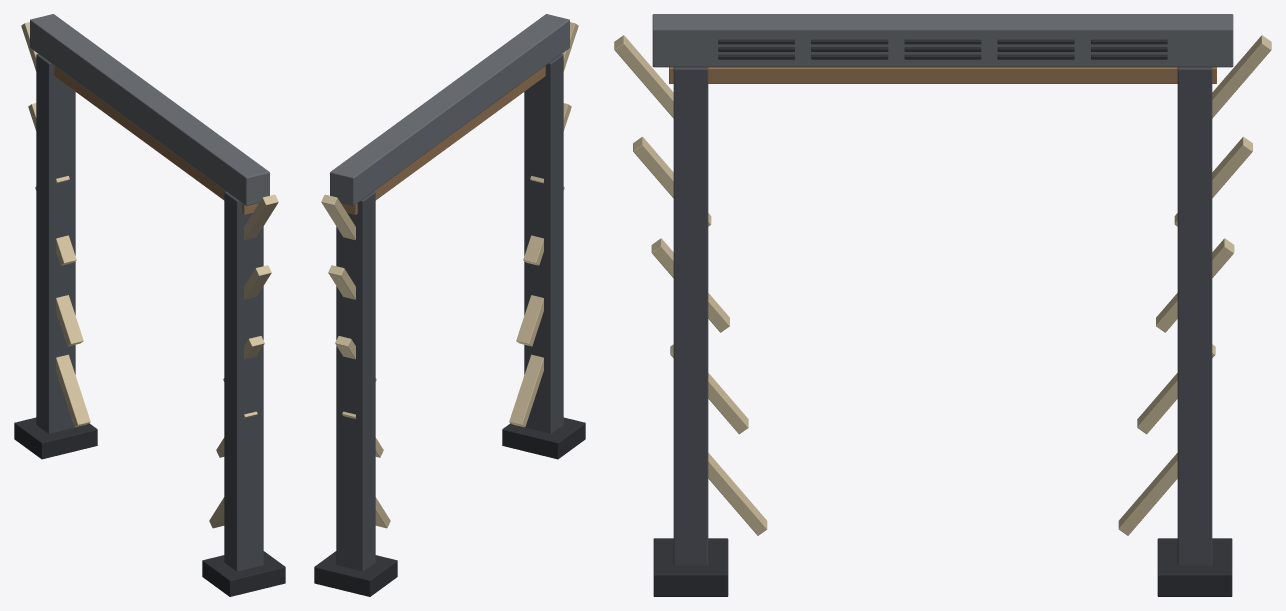
File: env_gantry.fbx
3 renders of one model, left to right at view 1: azimuth 30°, elevation 25°; view 2: azimuth 150°, elevation 25°; view 3: azimuth 270°, elevation 25°, orthographic. The views are drawn at different scales.
Parts seen in each view (by area): view 1: SM_Env_Gantry; view 2: SM_Env_Gantry; view 3: SM_Env_Gantry.
Boxes of the visible parts, box(x1,y1,x2,y2) form: SM_Env_Gantry: box(14, 14, 285, 596); SM_Env_Gantry: box(314, 14, 585, 596); SM_Env_Gantry: box(614, 14, 1271, 596).
Size of what is drawn, in the model's own units: 70 by 494 by 528.
